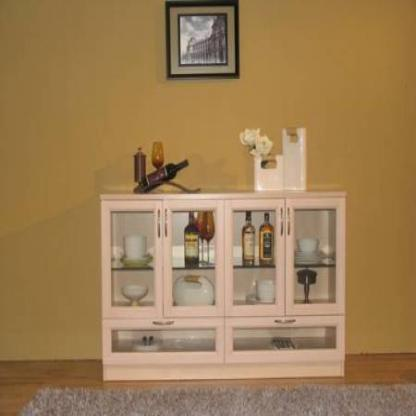Cupboard: (101, 189, 348, 385)
